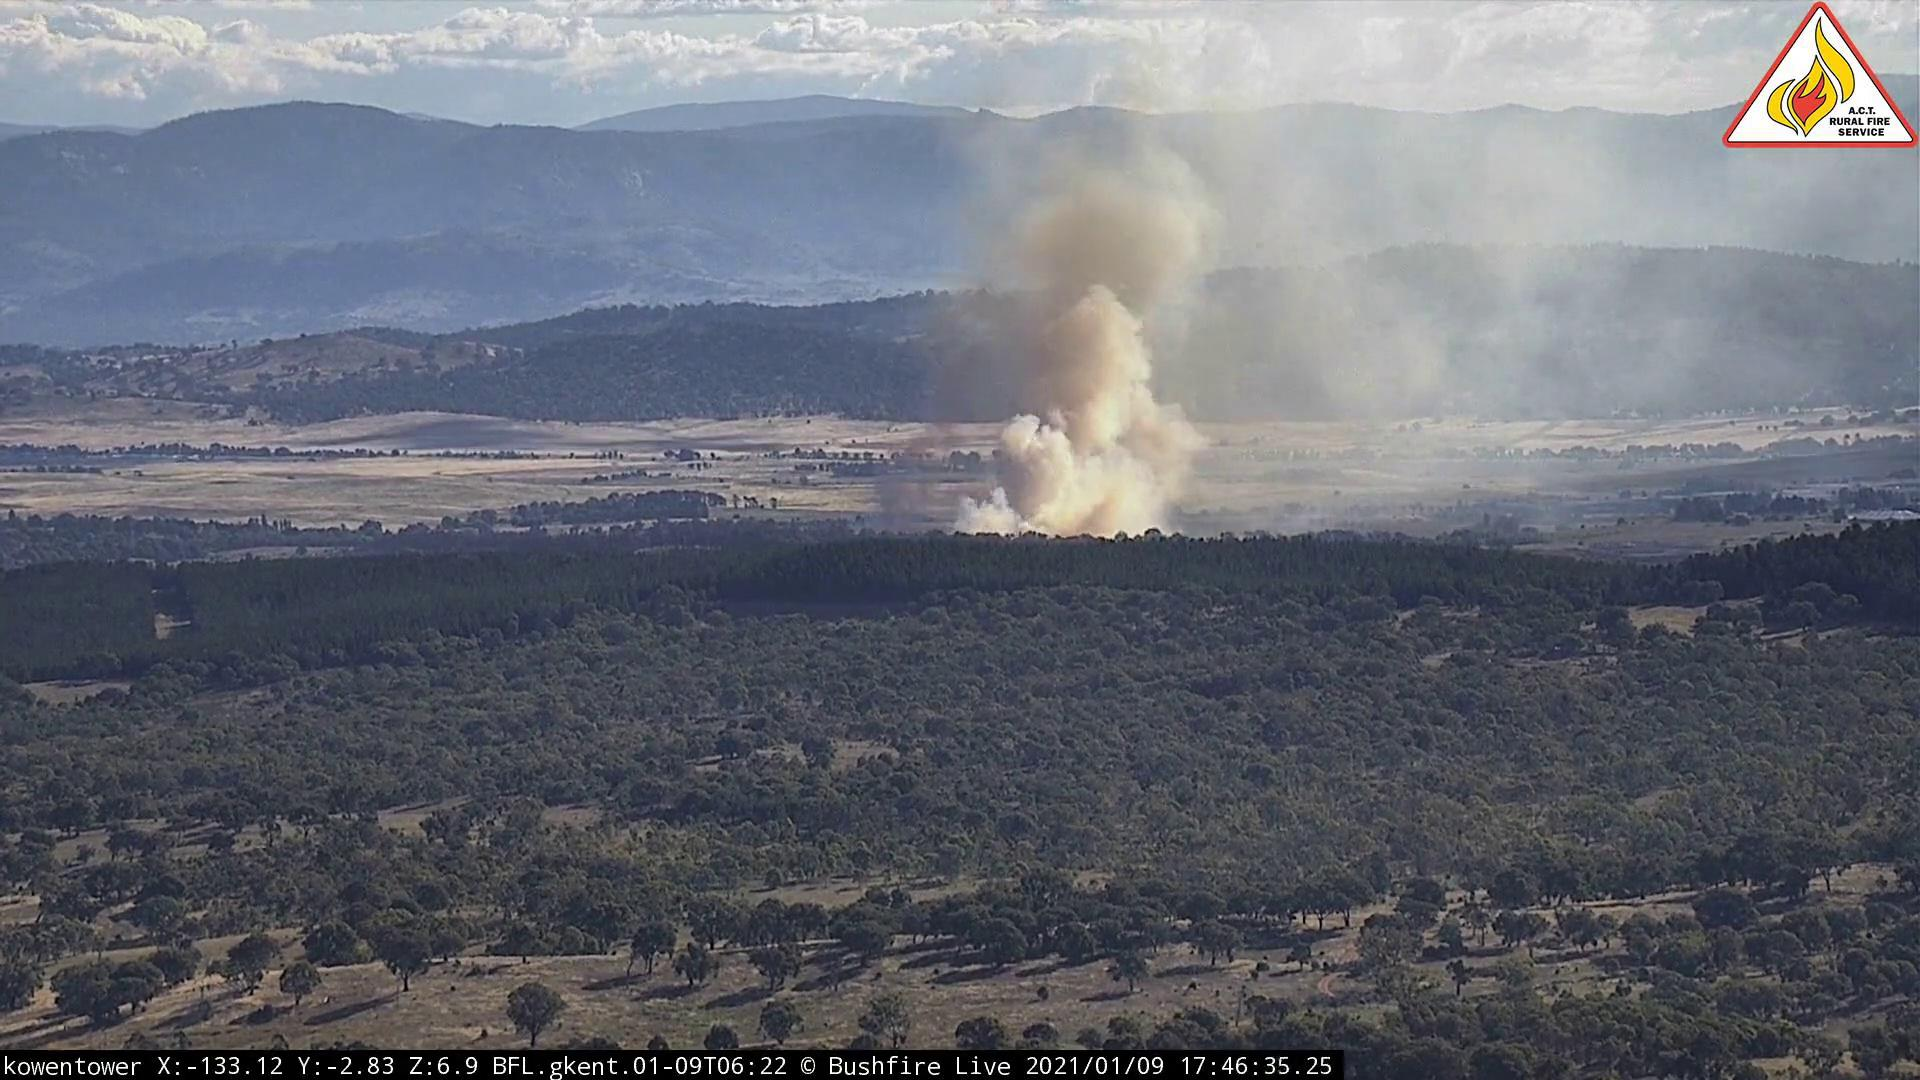Smoke: (851, 3, 1720, 545)
